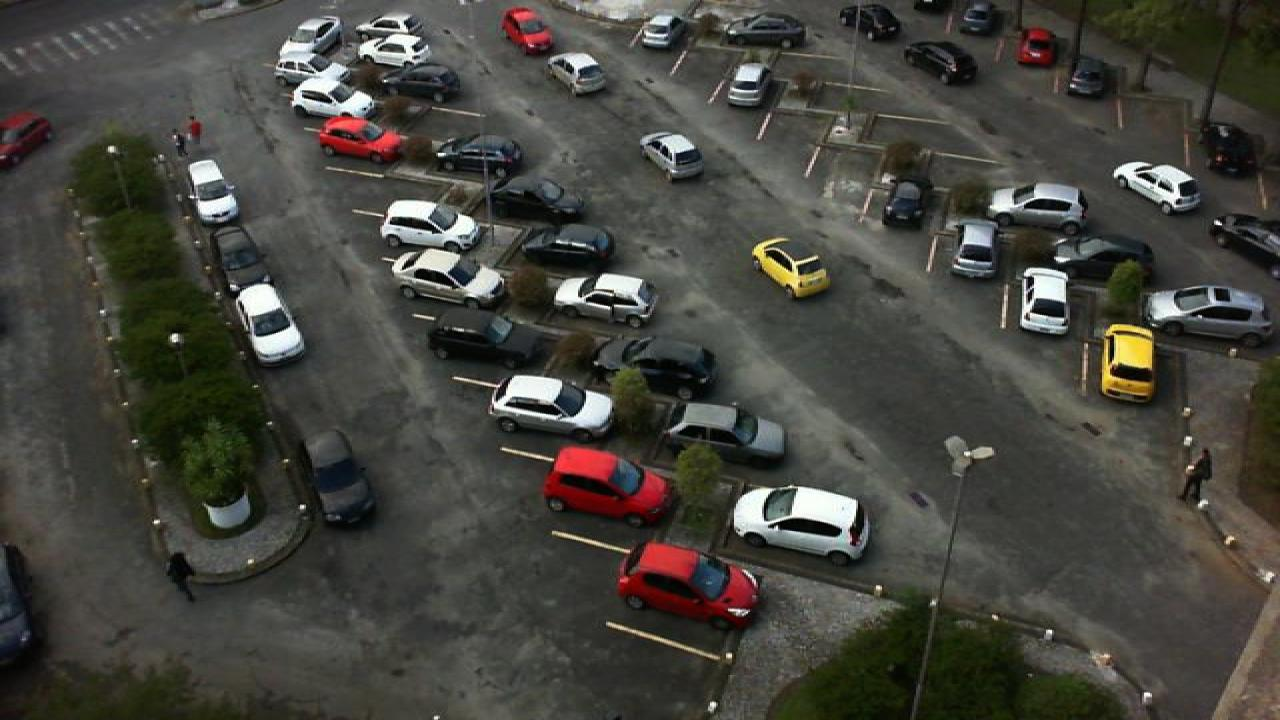Car: (616, 541, 762, 632), (730, 484, 874, 566), (540, 446, 674, 528), (656, 402, 792, 468), (1140, 282, 1274, 346), (490, 373, 616, 441), (298, 428, 382, 528), (594, 335, 718, 400), (388, 248, 510, 307), (424, 306, 534, 364), (1046, 233, 1160, 288), (552, 271, 660, 329), (234, 281, 306, 368), (378, 198, 488, 252), (986, 181, 1090, 235), (750, 236, 832, 300), (1110, 160, 1204, 215), (1098, 323, 1160, 404), (486, 176, 588, 224), (524, 223, 618, 270), (430, 132, 526, 178), (1208, 212, 1280, 270), (318, 115, 404, 163), (1016, 266, 1074, 336), (288, 75, 378, 120), (208, 224, 268, 287), (898, 41, 980, 86), (186, 158, 240, 226), (374, 64, 462, 104), (1198, 120, 1258, 178), (638, 130, 706, 180), (950, 216, 1002, 280), (724, 12, 808, 49), (274, 47, 342, 89), (500, 6, 554, 56), (544, 52, 608, 94), (354, 34, 432, 68), (880, 178, 928, 233), (838, 2, 902, 43), (722, 61, 770, 108), (290, 16, 344, 57), (638, 12, 690, 53), (354, 12, 424, 42), (1064, 54, 1110, 99), (1014, 26, 1058, 67), (958, 0, 1002, 37)
